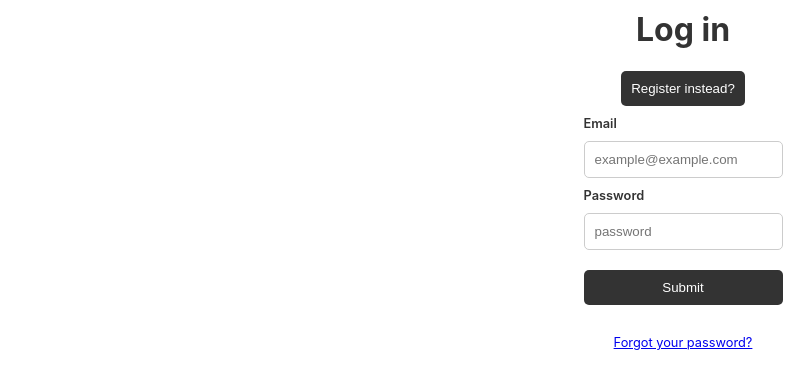
Test: auth page › has link to reset password page
This screenshot has width=800, height=367.
Click the link "Forgot your password?": (684, 343) [614, 335, 753, 350]
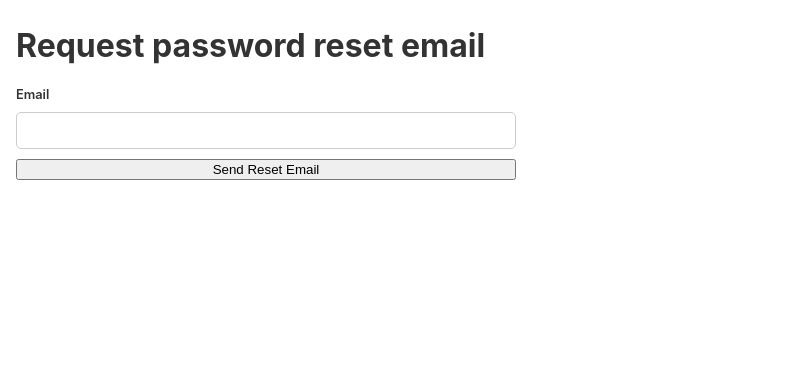
Check: the heading "Request password reset email" is shown, box [16, 27, 516, 66]
